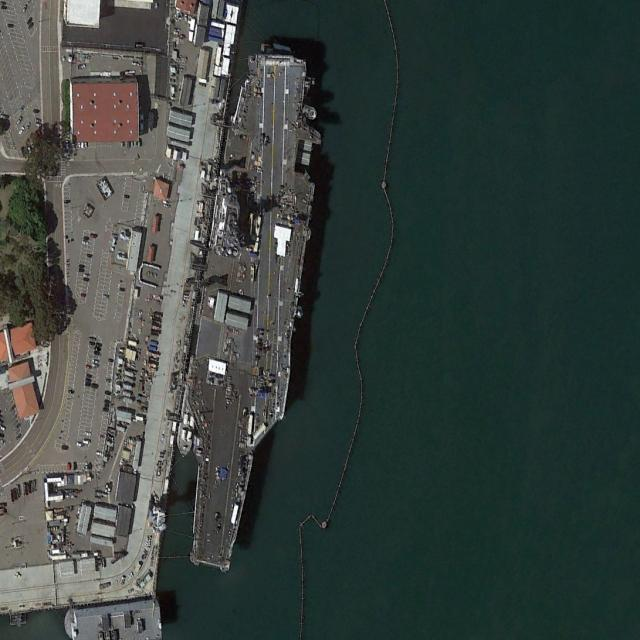Aircraft Carrier: (159, 40, 340, 583)
